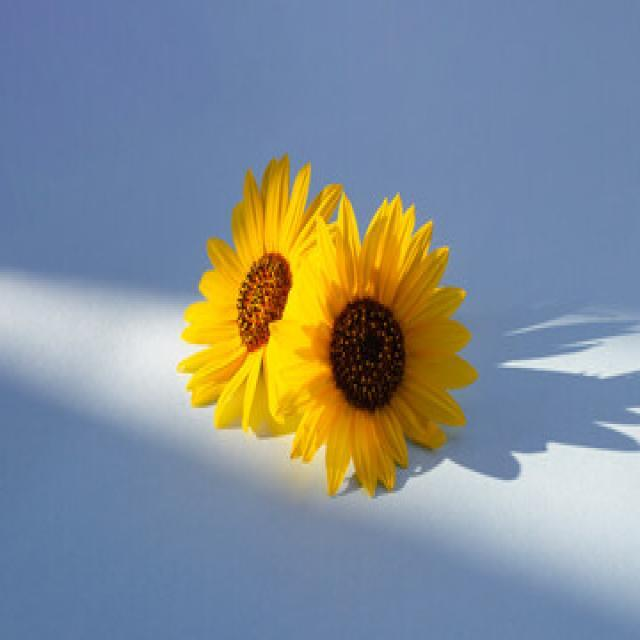sunflower: (264, 189, 478, 496), (176, 152, 341, 438)
